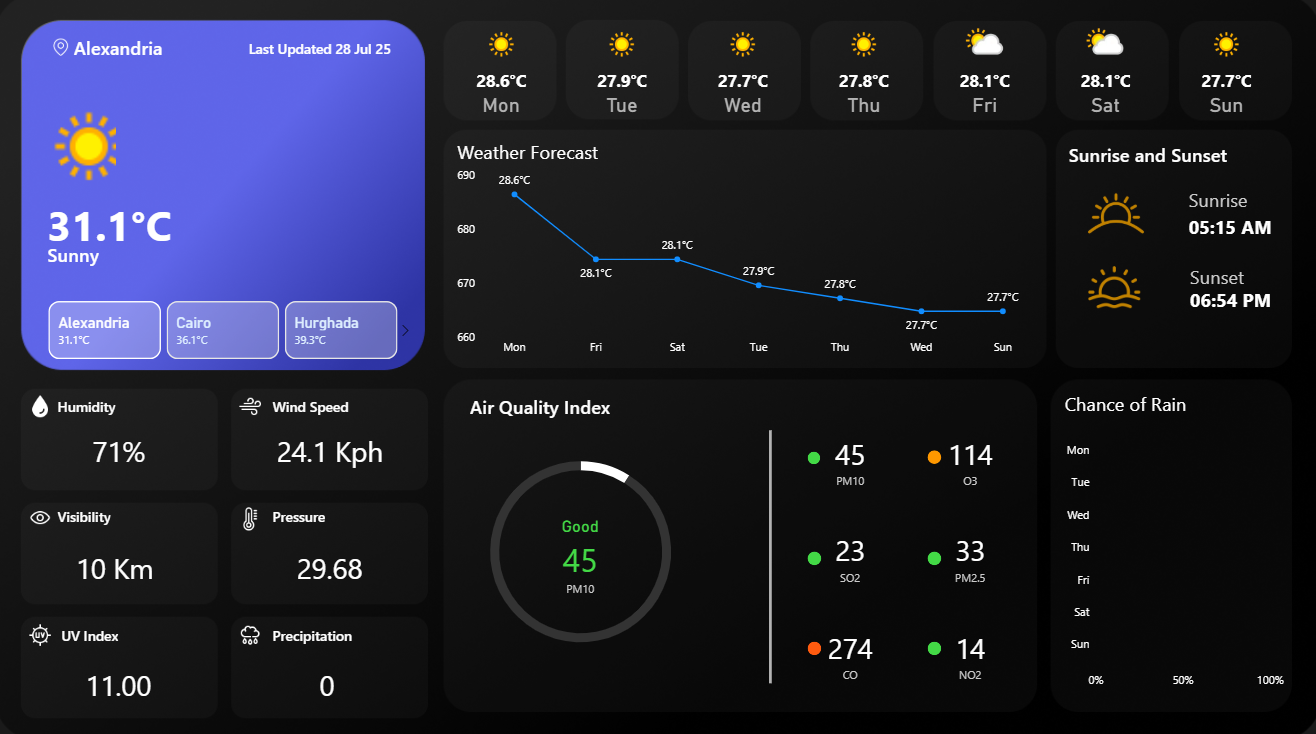

The dashboard page shown, as its layout file describes it:
{"tool":"powerbi","page":{"name":"Page 1","canvas":[1920,1080],"ordinal":0},"visuals":[{"type":"advancedSlicerVisual","fields":{"Values":["Locations.location.name"]},"box":[52.5,439.7,557.4,94.1],"z":0},{"type":"shape","box":[76,291.3,195.4,81.4],"z":1000},{"type":"shape","box":[76,358.2,340.2,36.2],"z":2000},{"type":"image","box":[72.4,59.7,45.2,34.4],"z":3000},{"type":"shape","box":[114,59.7,132.1,34.4],"z":4000},{"type":"shape","box":[367.4,63.3,211.7,30.8],"z":5000},{"type":"cardVisual","fields":{"Data":["Min(Current.current.condition.icon)"]},"box":[27.1,115.8,153.8,159.3],"z":6000},{"type":"image","box":[32.6,736.5,65.1,43.4],"z":7000},{"type":"shape","box":[90.5,734.7,90.5,43.4],"z":8000},{"type":"image","box":[336.6,575.5,65.1,43.4],"z":9000},{"type":"image","box":[32.6,575.5,65.1,43.4],"z":10000},{"type":"image","box":[336.6,738.3,65.1,43.4],"z":11000},{"type":"image","box":[32.6,906.6,65.1,43.4],"z":12000},{"type":"image","box":[336.6,906.6,65.1,43.4],"z":13000},{"type":"shape","box":[90.5,575.5,90.5,43.4],"z":14000},{"type":"shape","box":[401.7,575.5,133.9,43.4],"z":15000},{"type":"shape","box":[401.7,734.7,90.5,43.4],"z":16000},{"type":"shape","box":[95.9,906.6,90.5,43.4],"z":17000},{"type":"shape","box":[401.7,906.6,115.8,43.4],"z":18000},{"type":"card","fields":{"Values":["_Measures.Humidity"]},"box":[39.8,633.4,278.7,57.9],"z":19000},{"type":"card","fields":{"Values":["_Measures.Wind_Speed"]},"box":[345.6,633.4,278.7,57.9],"z":20000},{"type":"card","fields":{"Values":["Sum(Current.current.pressure_in)"]},"box":[346,801.7,277.6,58],"z":21000},{"type":"card","fields":{"Values":["_Measures.Visibility"]},"box":[35.2,801.7,277.6,58],"z":22000},{"type":"card","fields":{"Values":["Sum(Current.current.uv)"]},"box":[39.4,971.6,277.6,58],"z":23000},{"type":"card","fields":{"Values":["Sum(Current.current.precip_in)"]},"box":[341.8,971.6,277.6,58],"z":24000},{"type":"advancedSlicerVisual","fields":{"Values":["Forecast_Day.Day_Name"]},"box":[644.3,35.2,1228.5,145],"z":25000},{"type":"lineChart","title":"Weather Forecast","fields":{"Y":["Sum(Forecast_Day.forecast.forecastday.day.avgtemp_c)"],"Category":["Forecast_Day.Day_Name"]},"box":[665,209.2,847.3,323.2],"z":26000},{"type":"shape","box":[1553.7,209.2,319,43.5],"z":27000},{"type":"shape","box":[1727.8,294.2,122.2,82.9],"z":28000},{"type":"shape","box":[1729.8,400,122.2,82.9],"z":29000},{"type":"image","box":[1578.6,377,84.9,95.3],"z":30000},{"type":"shape","box":[1727.8,254.8,122.2,82.9],"z":31000},{"type":"shape","box":[1729.8,366.9,122.2,82.9],"z":32000},{"type":"image","box":[1553.7,259,136.7,118.1],"z":33000},{"type":"hundredPercentStackedBarChart","title":"Chance of Rain","fields":{"Y":["Sum(Forecast_Day.forecast.forecastday.day.daily_chance_of_rain)"],"Category":["Forecast_Day.Day_Name"]},"box":[1543.4,575.9,327.3,439.2],"z":34000},{"type":"shape","box":[687.8,575.9,319,43.5],"z":35000},{"type":"card","fields":{"Values":["Sum(Current.current.air_quality.o3)"]},"box":[1350.7,633.9,124.3,87],"z":36000},{"type":"card","fields":{"Values":["Sum(Current.current.air_quality.pm2_5)"]},"box":[1350.7,772.7,124.3,87],"z":37000},{"type":"card","fields":{"Values":["Sum(Current.current.air_quality.no2)"]},"box":[1350.7,913.6,124.3,87],"z":38000},{"type":"card","fields":{"Values":["Sum(Current.current.air_quality.co)"]},"box":[1176.7,913.6,124,87],"z":39000},{"type":"card","fields":{"Values":["Sum(Current.current.air_quality.so2)"]},"box":[1176.7,772.7,124,87],"z":40000},{"type":"card","fields":{"Values":["Sum(Current.current.air_quality.pm10)"]},"box":[1176.7,633.9,124,87],"z":41000},{"type":"shape","box":[1176.4,662.1,18.6,18.6],"z":42000},{"type":"shape","box":[1176.4,937.1,20,20],"z":43000},{"type":"shape","box":[1176.4,806.4,20,20],"z":44000},{"type":"shape","box":[1350.7,806.4,20,20],"z":45000},{"type":"shape","box":[1350.7,937.1,20,20],"z":46000},{"type":"shape","box":[2196.4,1352.1,20,20],"z":47000},{"type":"shape","box":[1350.7,660.7,20,20],"z":48000},{"type":"shape","box":[1089.7,631.9,66.3,366.7],"z":49000},{"type":"card","fields":{"Values":["Sum(Current.current.air_quality.pm10)"]},"box":[785.2,756.2,124.3,118.1],"z":50000},{"type":"donutChart","fields":{"Y":["Sum(Current.current.air_quality.pm10)","_Measures.Left_Value_PM10"]},"box":[638.1,638.1,418.5,337.7],"z":51000}]}

Visuals, with their boxes in screenshot pixels (x1, y1, x2, y2), scaled from the page's 1920x1080 canvas onto the 1316x734 screenshot:
advancedSlicerVisual - Locations.location.name: 36/299/418/363
shape: 52/198/186/253
shape: 52/243/285/268
image: 50/41/81/64
shape: 78/41/169/64
shape: 252/43/397/64
cardVisual - Min(Current.current.condition.icon): 19/79/124/187
image: 22/501/67/530
shape: 62/499/124/529
image: 231/391/275/421
image: 22/391/67/421
image: 231/502/275/531
image: 22/616/67/646
image: 231/616/275/646
shape: 62/391/124/421
shape: 275/391/367/421
shape: 275/499/337/529
shape: 66/616/128/646
shape: 275/616/355/646
card - _Measures.Humidity: 27/430/218/470
card - _Measures.Wind_Speed: 237/430/428/470
card - Sum(Current.current.pressure_in): 237/545/427/584
card - _Measures.Visibility: 24/545/214/584
card - Sum(Current.current.uv): 27/660/217/700
card - Sum(Current.current.precip_in): 234/660/425/700
advancedSlicerVisual - Forecast_Day.Day_Name: 442/24/1284/122
"Weather Forecast" lineChart: 456/142/1037/362
shape: 1065/142/1284/172
shape: 1184/200/1268/256
shape: 1186/272/1269/328
image: 1082/256/1140/321
shape: 1184/173/1268/230
shape: 1186/249/1269/306
image: 1065/176/1159/256
"Chance of Rain" hundredPercentStackedBarChart: 1058/391/1282/690
shape: 471/391/690/421
card - Sum(Current.current.air_quality.o3): 926/431/1011/490
card - Sum(Current.current.air_quality.pm2_5): 926/525/1011/584
card - Sum(Current.current.air_quality.no2): 926/621/1011/680
card - Sum(Current.current.air_quality.co): 807/621/892/680
card - Sum(Current.current.air_quality.so2): 807/525/892/584
card - Sum(Current.current.air_quality.pm10): 807/431/892/490
shape: 806/450/819/463
shape: 806/637/820/650
shape: 806/548/820/562
shape: 926/548/940/562
shape: 926/637/940/650
shape: 926/449/940/463
shape: 747/429/792/679
card - Sum(Current.current.air_quality.pm10): 538/514/623/594
donutChart - Sum(Current.current.air_quality.pm10) x _Measures.Left_Value_PM10: 437/434/724/663
